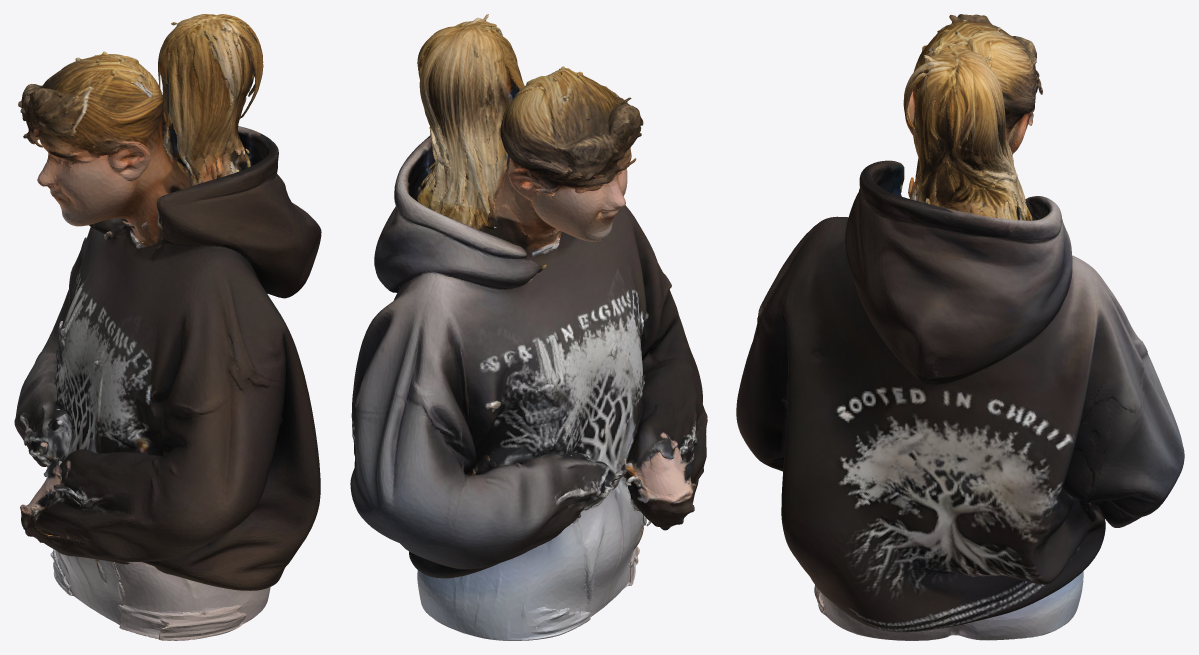
Rendered from tripo_convert_b330ab75-cd43-4cef-9d6a-cafdf0992962.glb.
The picture shows the model from 3 angles, left to right: view 1: azimuth 30°, elevation 25°; view 2: azimuth 150°, elevation 25°; view 3: azimuth 270°, elevation 25°; orthographic projection. The views are drawn at different scales.
Parts seen in each view (by area): view 1: tripo_node_b330ab75-cd43-4cef-9d6a-cafdf0992962; view 2: tripo_node_b330ab75-cd43-4cef-9d6a-cafdf0992962; view 3: tripo_node_b330ab75-cd43-4cef-9d6a-cafdf0992962.
Part boxes in pixels (box(x1,y1,x2,y2)): tripo_node_b330ab75-cd43-4cef-9d6a-cafdf0992962: box(14, 14, 321, 640); tripo_node_b330ab75-cd43-4cef-9d6a-cafdf0992962: box(350, 14, 707, 640); tripo_node_b330ab75-cd43-4cef-9d6a-cafdf0992962: box(736, 14, 1184, 640).
Size of the model in its own units: 0.5587 by 1 by 0.7014.
1 material, 1 textured.
